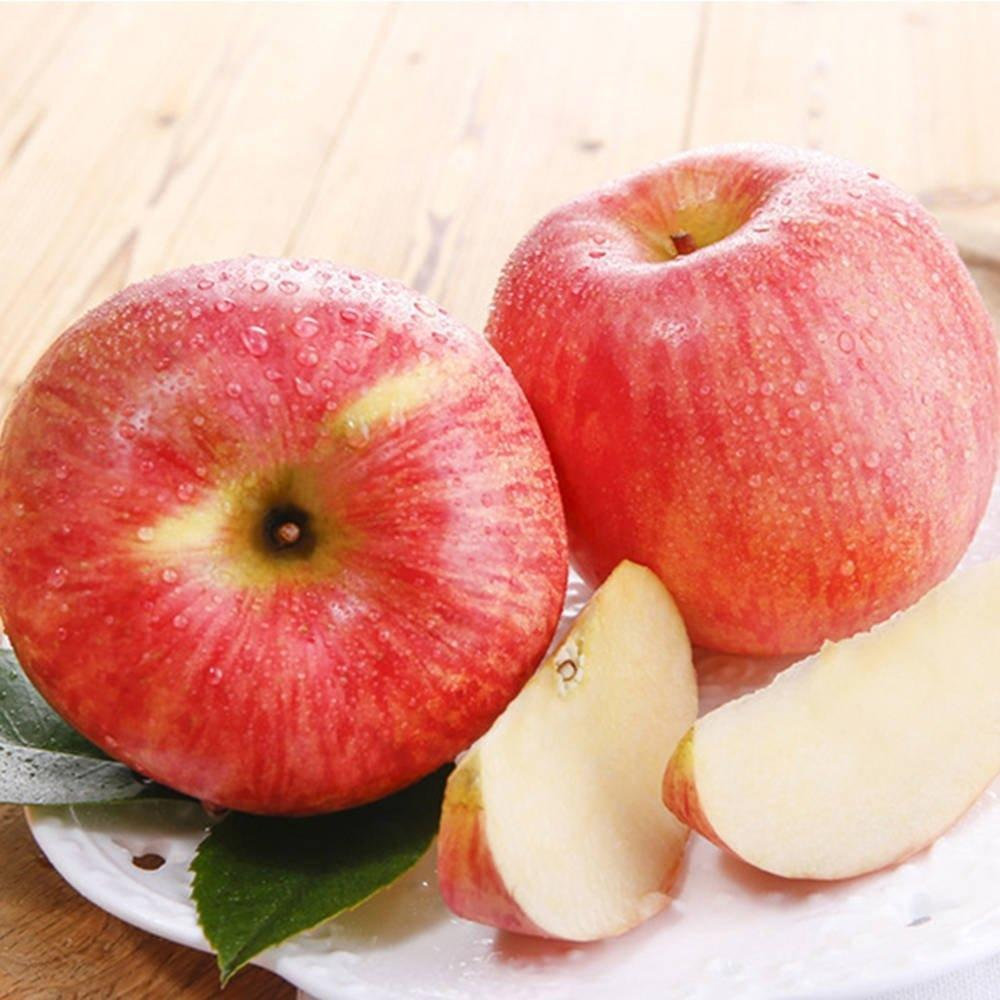apple: (1, 260, 569, 816), (472, 158, 992, 665), (660, 557, 1000, 882), (441, 559, 699, 946)
